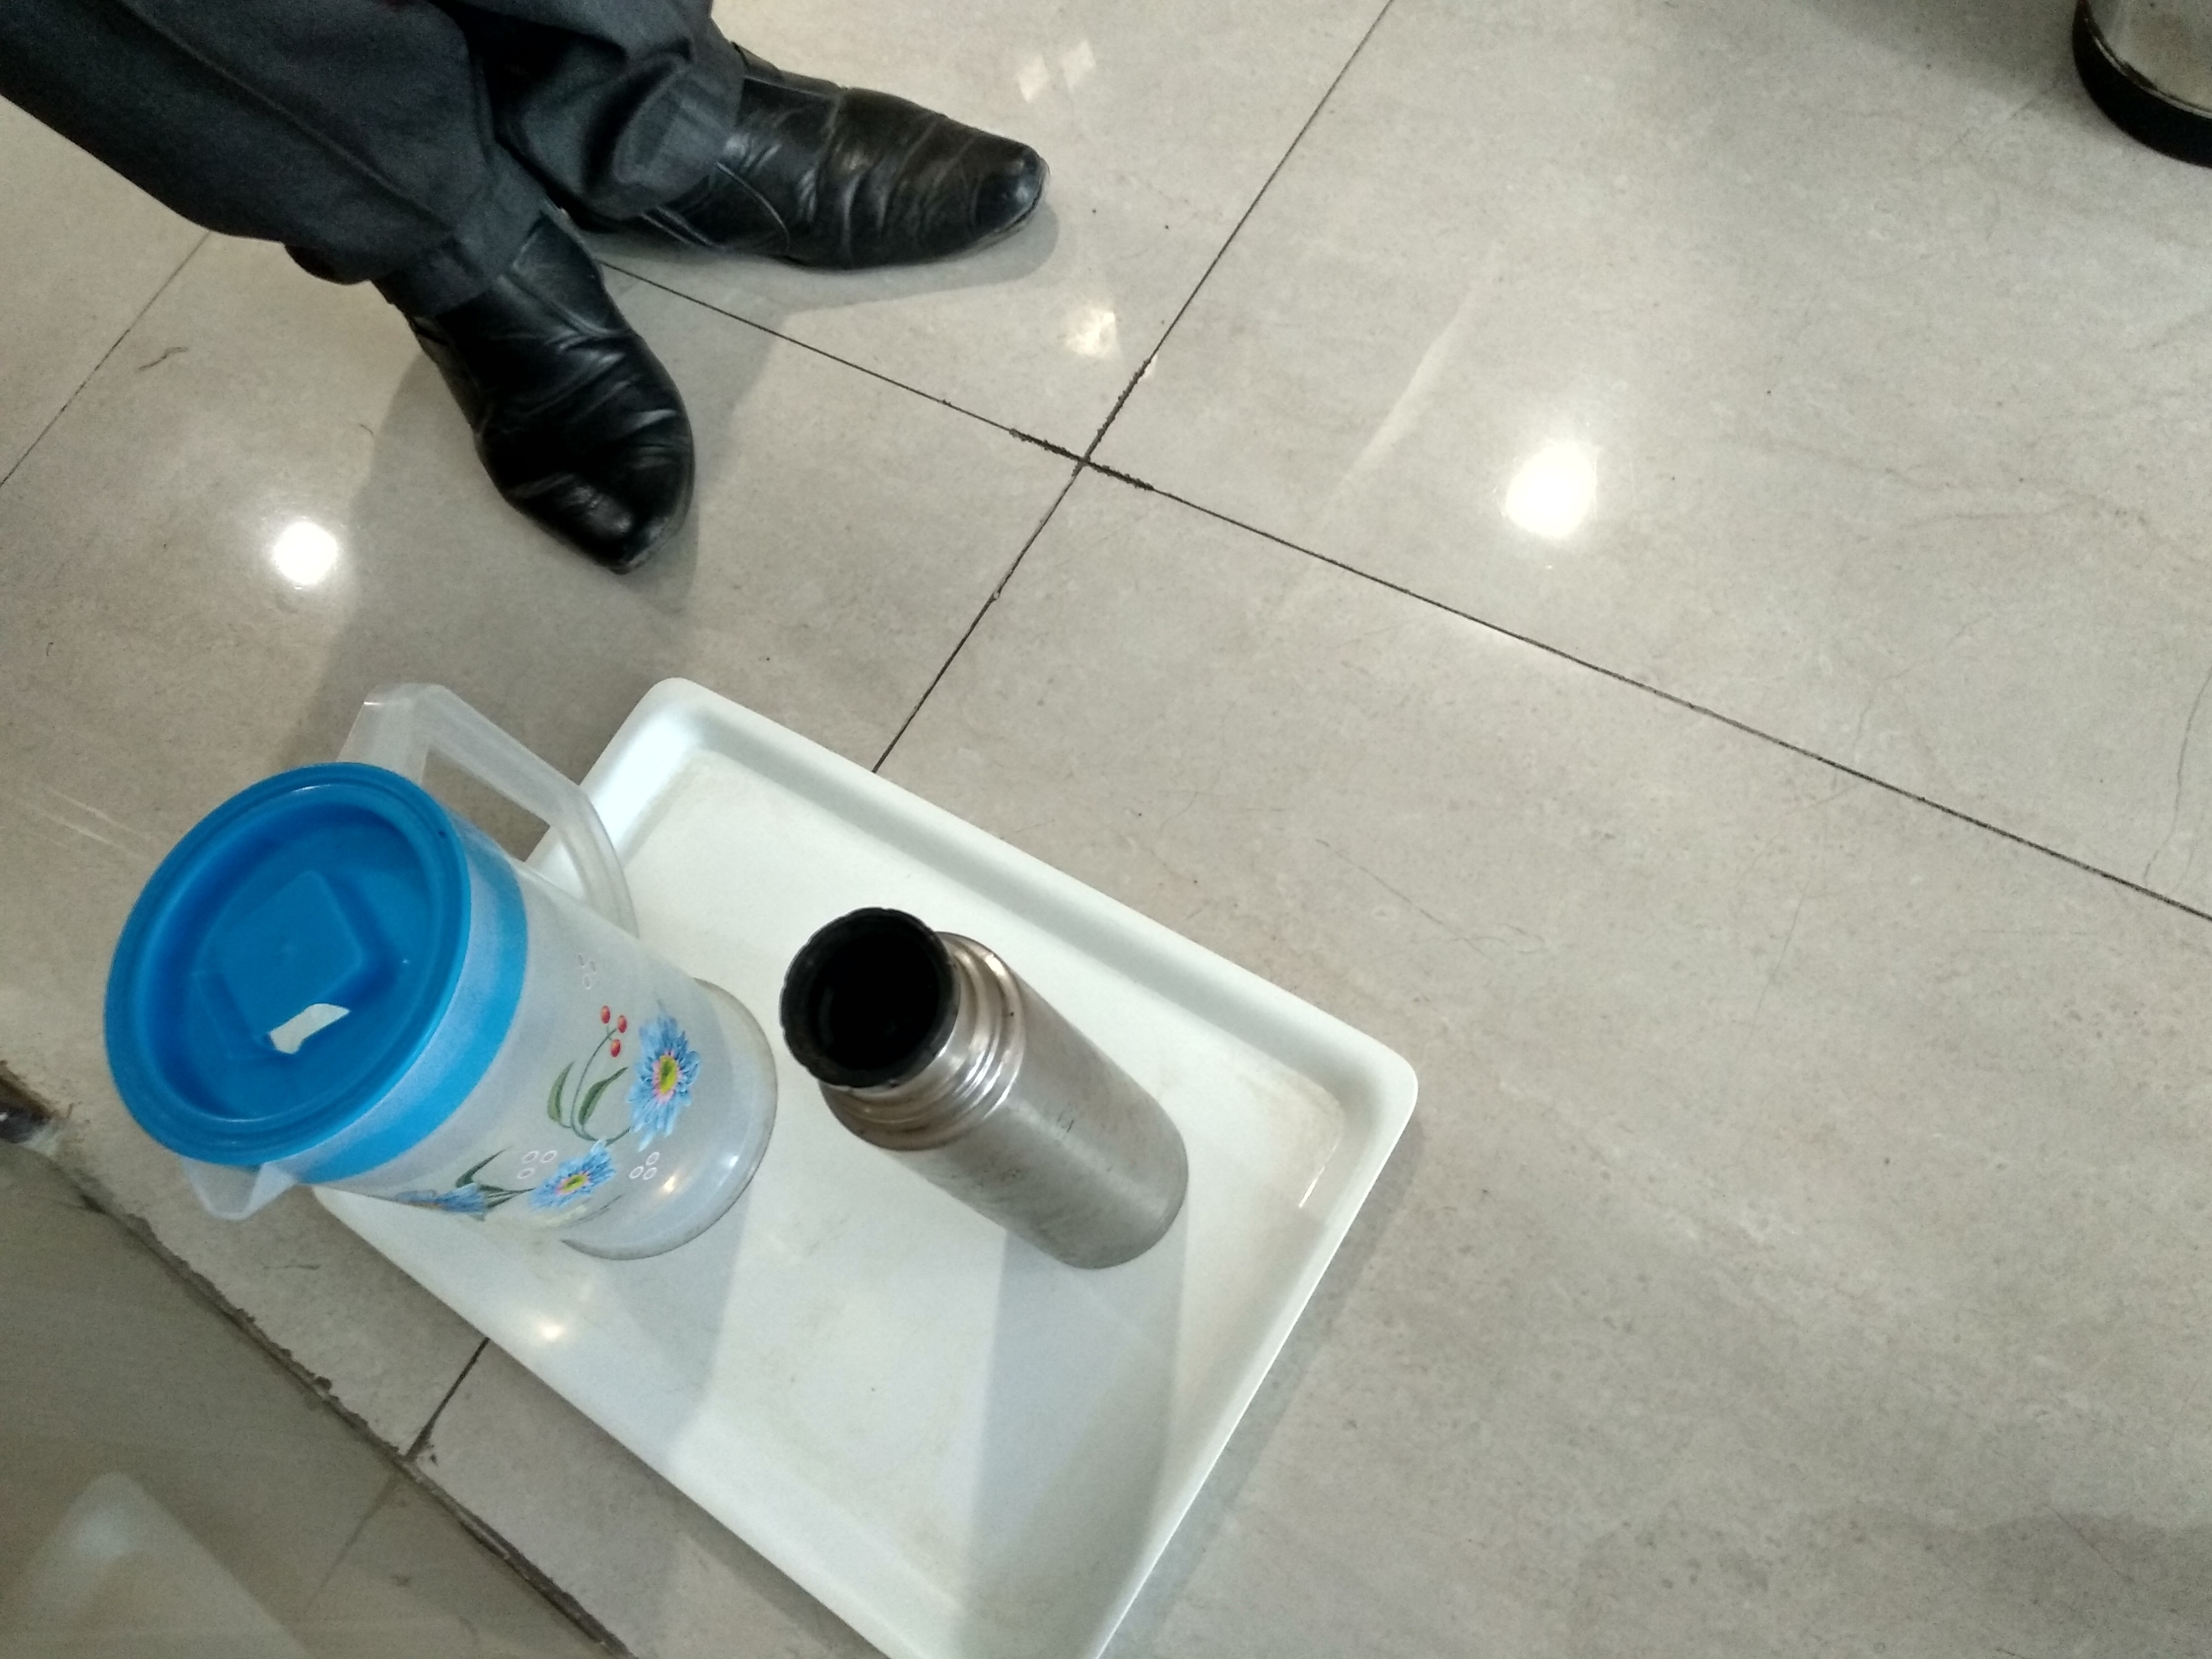FLASK: (691, 854, 1211, 1303)
JUG: (84, 673, 773, 1314)
